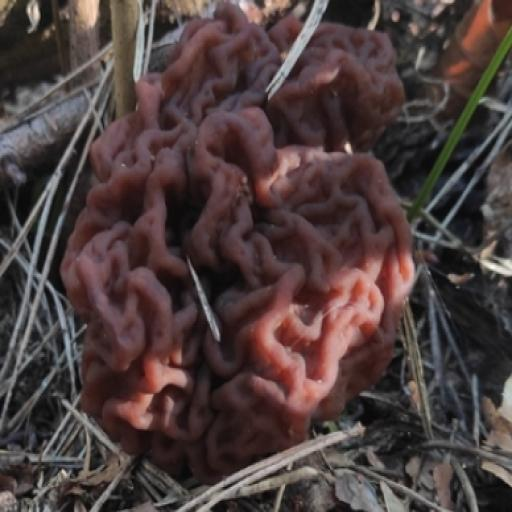mushroom: (54, 9, 417, 462)
